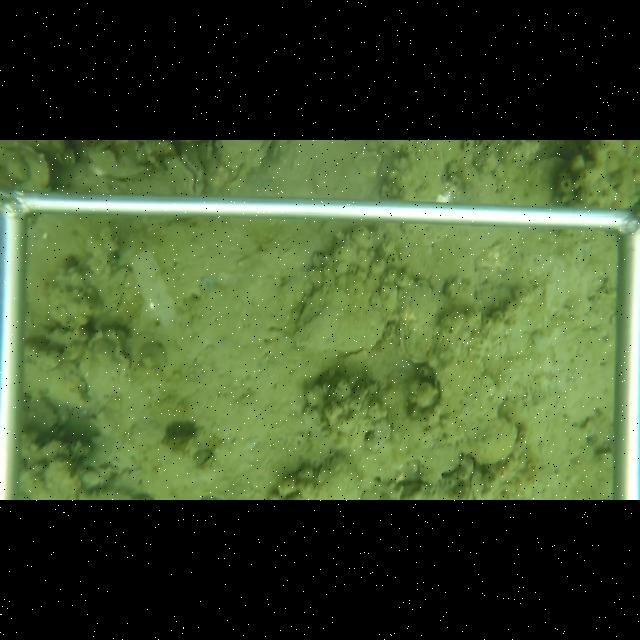Oyster-Closed: (294, 227, 404, 353), (395, 276, 455, 367), (78, 329, 135, 417), (302, 450, 365, 499), (165, 146, 206, 195), (17, 144, 53, 193), (458, 469, 485, 500)
